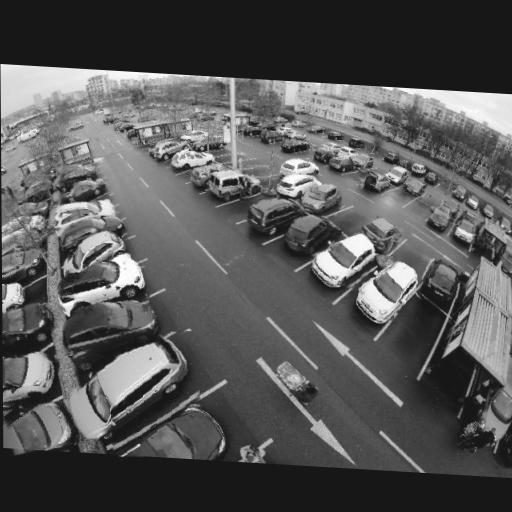busy: (73, 327, 202, 446), (111, 401, 234, 462), (69, 293, 163, 363), (64, 253, 153, 311), (357, 253, 424, 325), (311, 226, 383, 292), (6, 399, 77, 455), (3, 350, 58, 416), (65, 230, 132, 275), (4, 301, 55, 360), (56, 196, 120, 232), (245, 196, 302, 236), (284, 215, 335, 258), (421, 259, 466, 302), (63, 213, 122, 244), (206, 170, 259, 202), (3, 248, 43, 288), (59, 179, 110, 209), (301, 181, 345, 215), (274, 172, 319, 201), (361, 215, 402, 244), (170, 150, 211, 176), (191, 163, 231, 188), (151, 139, 190, 164), (59, 164, 98, 189), (451, 216, 480, 245), (360, 173, 393, 196), (427, 206, 456, 232), (279, 157, 317, 176), (330, 155, 362, 174), (402, 176, 428, 198), (283, 138, 313, 155), (313, 147, 340, 165), (263, 130, 289, 146), (409, 162, 429, 178), (452, 185, 469, 202), (465, 195, 481, 210), (425, 172, 440, 185)
free: (394, 313, 436, 344), (395, 245, 433, 276), (335, 211, 362, 231), (424, 186, 442, 207), (409, 202, 431, 218), (252, 162, 270, 181), (388, 192, 407, 204), (353, 170, 370, 182), (217, 145, 230, 158)
